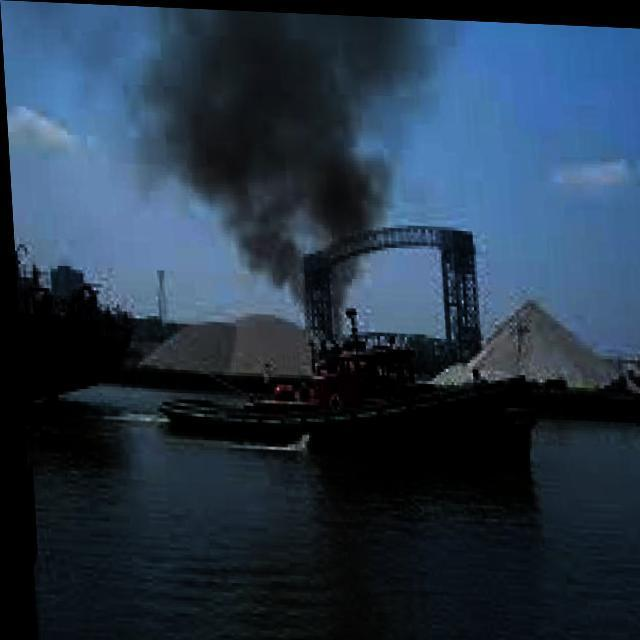Smoke: (123, 4, 455, 315)
